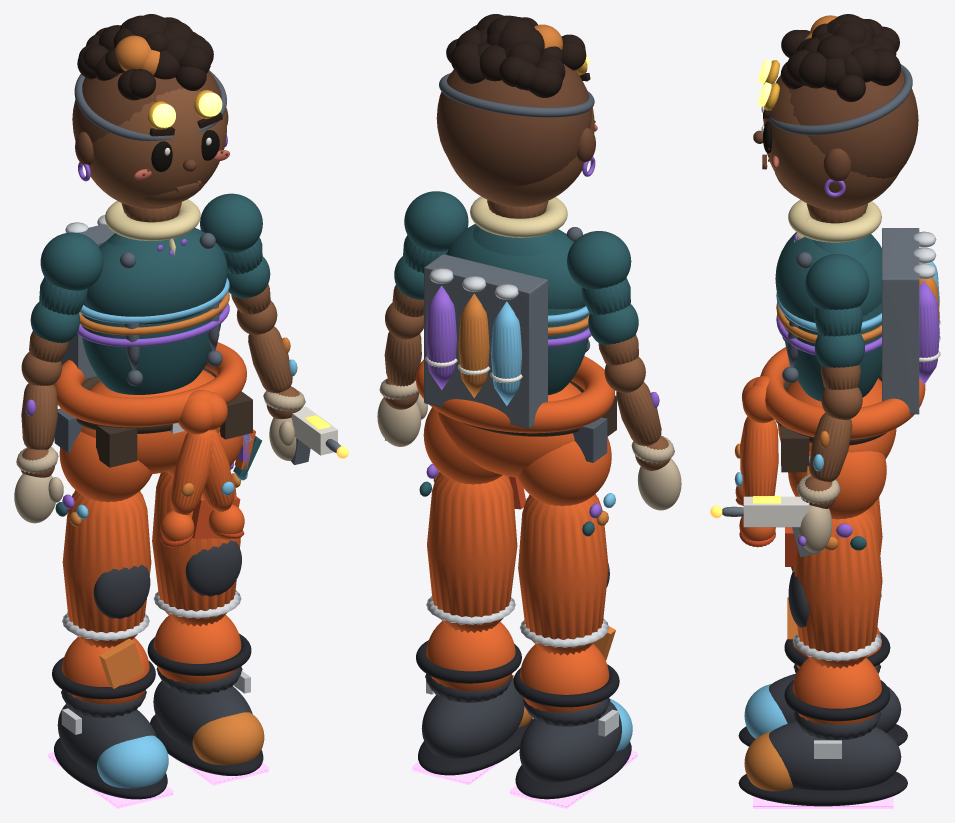
File: ines.glb
The picture shows the model from 3 angles, left to right: view 1: azimuth 30°, elevation 25°; view 2: azimuth 150°, elevation 25°; view 3: azimuth 270°, elevation 25°; orthographic projection. The views are drawn at different scales.
Parts seen in each view (by area): view 1: chest, leg_-1, head, torso, tied_sleeves, leg_1, leg_1_capA, leg_-1_capB, boot_1, hair_shave, boot_-1, toe_-1 (+54 smaller); view 2: hair_shave, leg_1, leg_-1, pack_frame, boot_1, tied_sleeves, boot_-1, hips, leg_-1_capB, leg_1_capA, chest, leg_-1_capA (+38 smaller); view 3: leg_1, hair_shave, pack_frame, boot_1, head, tied_sleeves, leg_1_capA, chest, torso, leg_1_capB, shoulder_1, sole_1 (+42 smaller).
Boxes of the visible parts, x1,y1,x2,y2 form: chest: [84, 228, 227, 324]; leg_-1: [62, 490, 151, 648]; head: [89, 88, 226, 208]; torso: [81, 233, 221, 394]; tied_sleeves: [53, 342, 246, 427]; leg_1: [152, 472, 240, 626]; leg_1_capA: [153, 615, 241, 683]; leg_-1_capB: [59, 431, 152, 502]; boot_1: [153, 680, 252, 750]; hair_shave: [72, 71, 221, 142]; boot_-1: [57, 704, 156, 773]; toe_-1: [97, 735, 168, 788]; hair_shave: [436, 64, 592, 187]; leg_1: [427, 472, 517, 632]; leg_-1: [518, 494, 608, 655]; pack_frame: [424, 254, 547, 428]; boot_1: [421, 677, 524, 758]; tied_sleeves: [415, 356, 614, 433]; boot_-1: [519, 701, 621, 782]; hips: [437, 382, 581, 477]; leg_-1_capB: [517, 437, 611, 506]; leg_1_capA: [426, 621, 515, 691]; chest: [446, 224, 585, 309]; leg_-1_capA: [520, 644, 609, 712]; leg_1: [793, 507, 882, 668]; hair_shave: [787, 70, 918, 178]; pack_frame: [882, 228, 919, 414]; boot_1: [769, 721, 901, 790]; head: [763, 75, 899, 210]; tied_sleeves: [760, 347, 925, 439]; leg_1_capA: [792, 657, 881, 725]; chest: [775, 232, 882, 322]; torso: [784, 234, 881, 401]; leg_1_capB: [788, 451, 886, 519]; shoulder_1: [805, 254, 869, 309]; sole_1: [738, 771, 907, 806].
Size of the model in its own units: 0.7397 by 1.78 by 0.4919.
